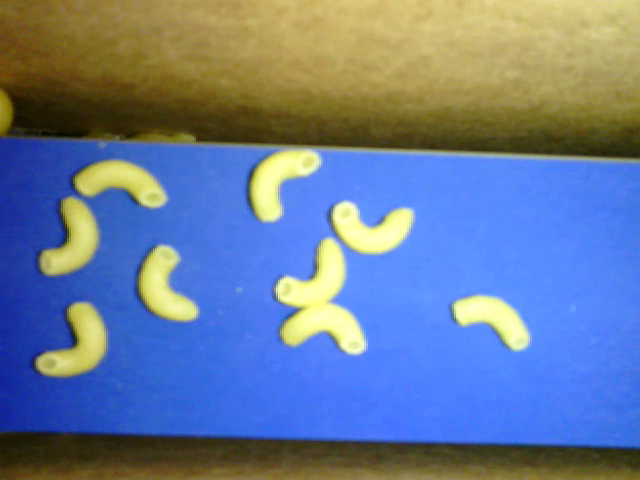elbow: (245, 149, 323, 224), (36, 302, 109, 380), (277, 301, 368, 360), (274, 237, 348, 308), (136, 243, 199, 324), (452, 294, 531, 357), (71, 160, 170, 210), (40, 196, 98, 278), (331, 204, 414, 258)
